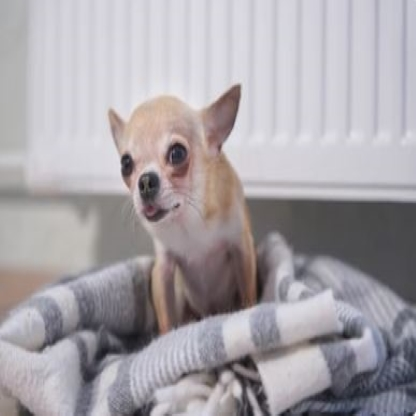chihuahua: (105, 82, 261, 336)
